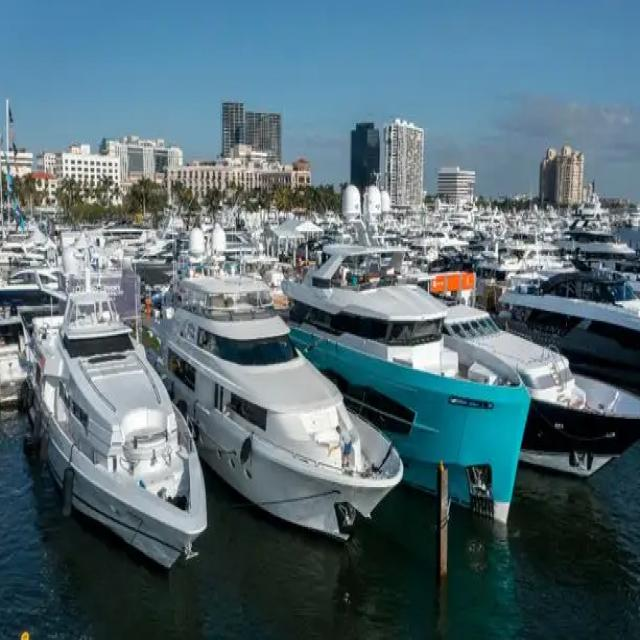houseboat: (271, 259, 539, 552), (176, 258, 392, 559), (22, 270, 204, 580)
